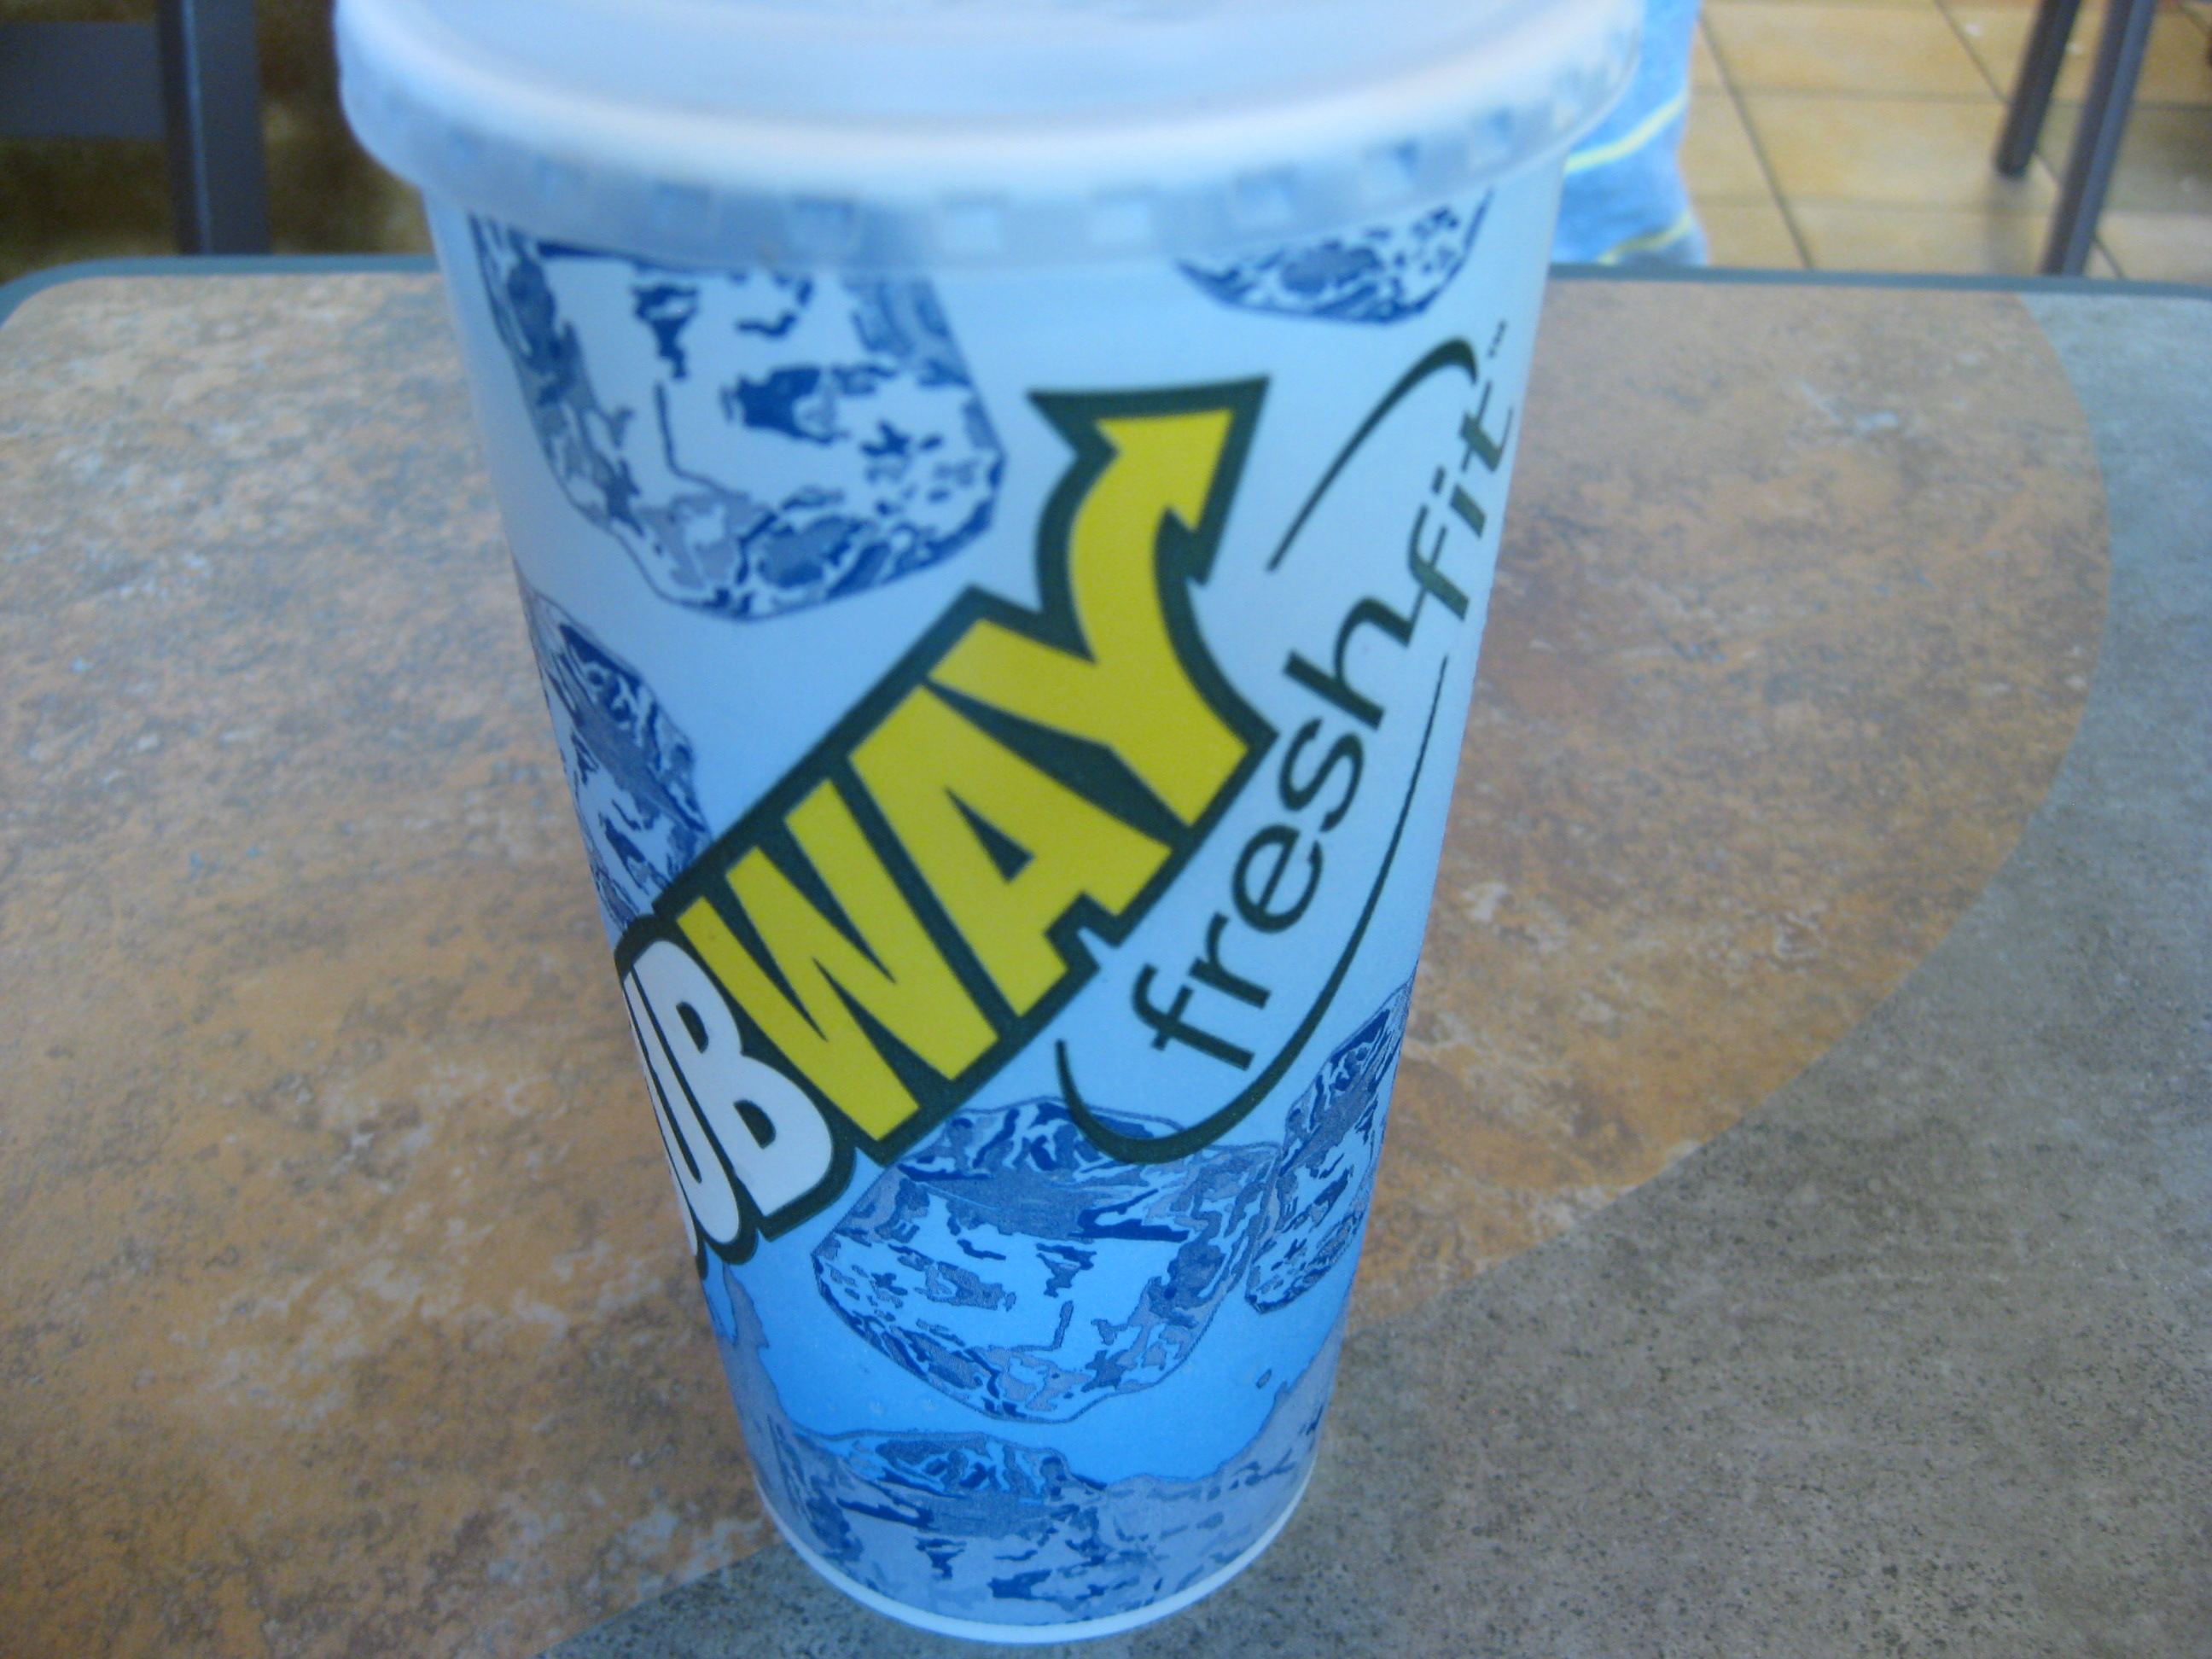drink: (328, 3, 1726, 1650)
